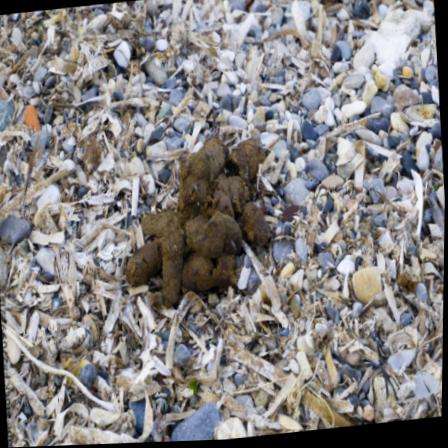dog-poop: (116, 127, 286, 314)
